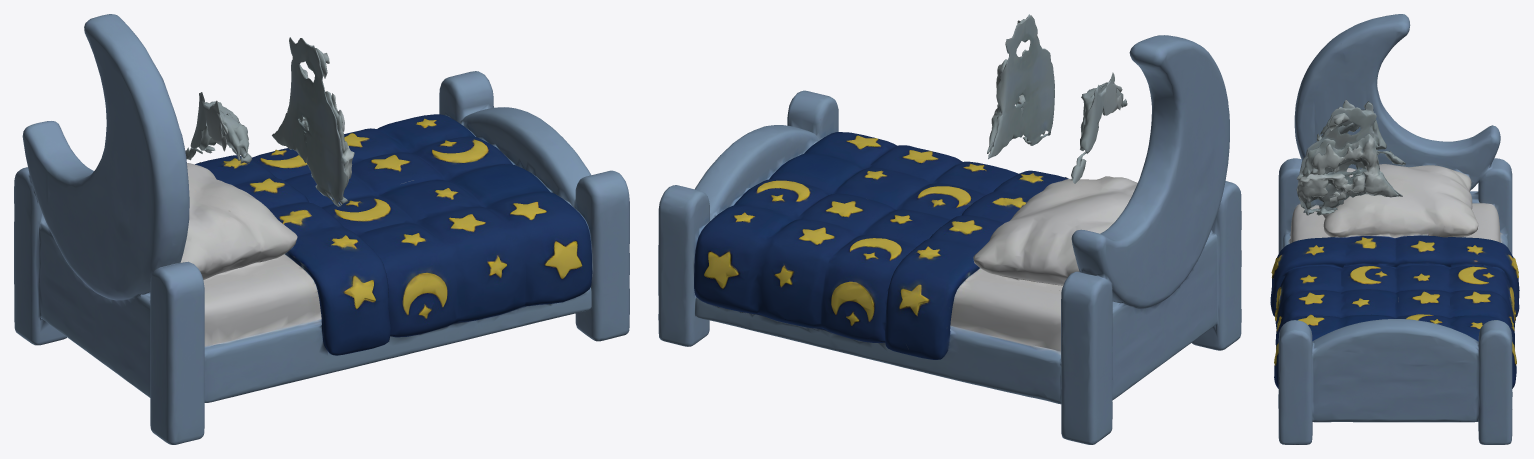
File: bed.glb
3 renders of one model, left to right at view 1: azimuth 30°, elevation 25°; view 2: azimuth 150°, elevation 25°; view 3: azimuth 270°, elevation 25°, orthographic. The views are drawn at different scales.
Visible parts, largest first — view 1: tripo_node_7cffbe95-01e7-4702-bdac-7562fe7241fa; view 2: tripo_node_7cffbe95-01e7-4702-bdac-7562fe7241fa; view 3: tripo_node_7cffbe95-01e7-4702-bdac-7562fe7241fa.
Part boxes in pixels (x1,y1,x2,y2): tripo_node_7cffbe95-01e7-4702-bdac-7562fe7241fa: (14,14,629,444); tripo_node_7cffbe95-01e7-4702-bdac-7562fe7241fa: (658,14,1241,444); tripo_node_7cffbe95-01e7-4702-bdac-7562fe7241fa: (1270,14,1519,444).
Bounding box in the file's own units: 1 × 0.7555 × 0.6336.
1 material, 1 textured.
